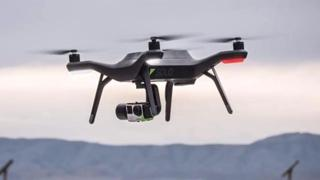UAV: (226, 58, 320, 180)
